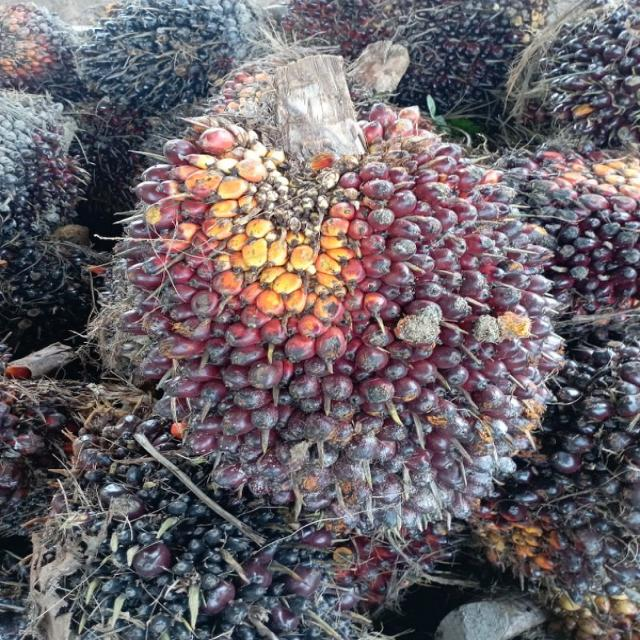fraksi 1: (104, 62, 574, 544)
